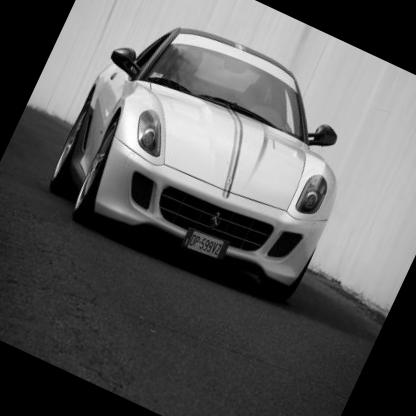car: (1, 1, 416, 371)
